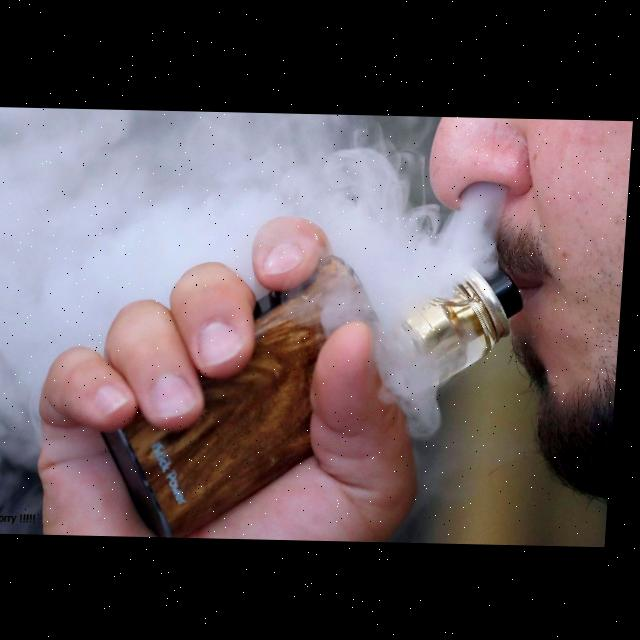vape: (100, 247, 532, 543)
